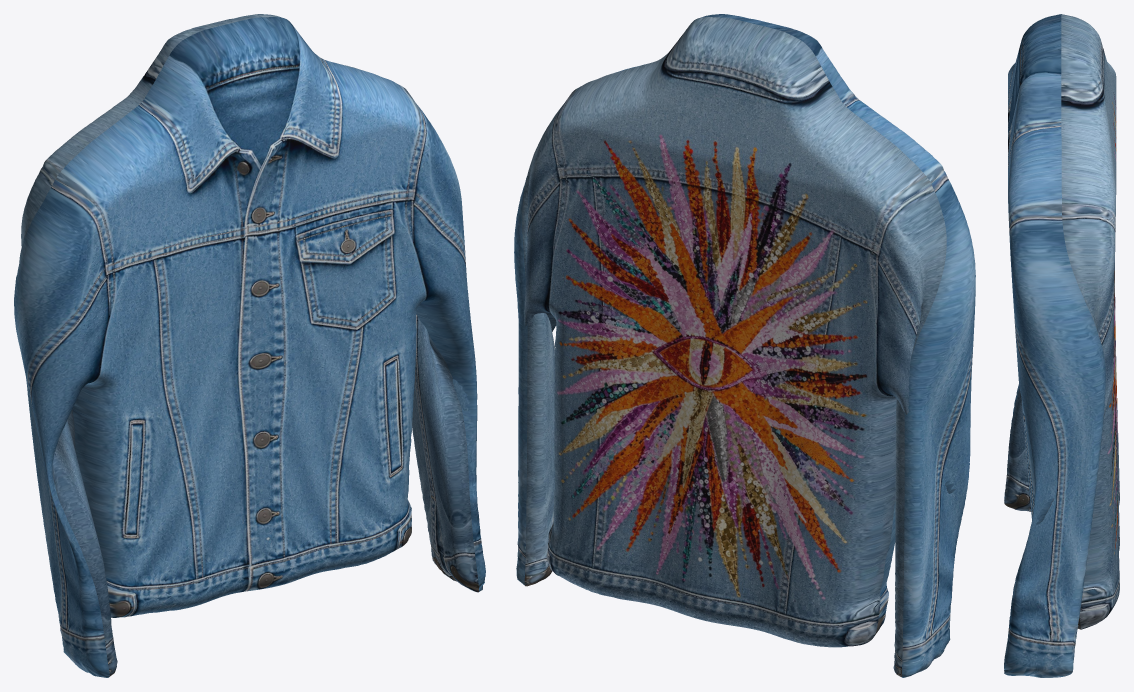
Rendered from jacket_sun.glb.
The picture shows the model from 3 angles, left to right: view 1: azimuth 30°, elevation 25°; view 2: azimuth 150°, elevation 25°; view 3: azimuth 270°, elevation 25°; orthographic projection. The views are drawn at different scales.
Visible parts, largest first — view 1: Jacket; view 2: Jacket; view 3: Jacket.
Part boxes in pixels (bbox=[...]): Jacket: bbox=[14, 14, 485, 677]; Jacket: bbox=[514, 14, 975, 677]; Jacket: bbox=[1004, 14, 1119, 677].
Size of the model in its own units: 0.5236 by 0.6837 by 0.1305.
2 materials, 2 textured.
